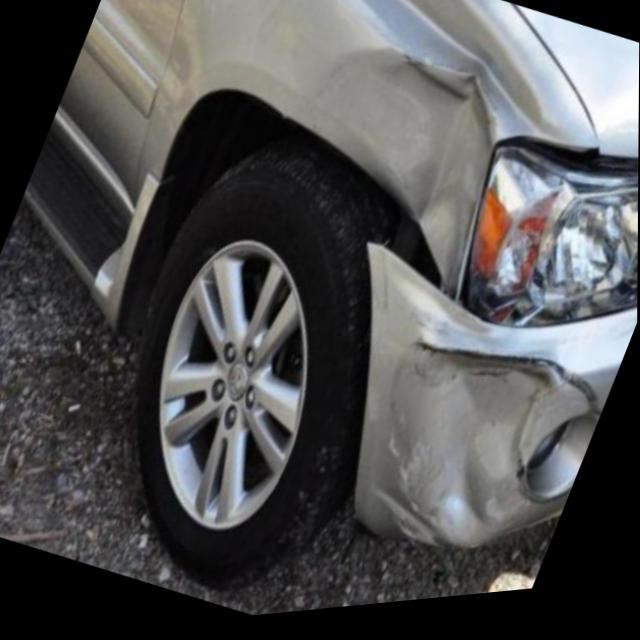dent: (355, 253, 603, 559), (310, 57, 500, 288)
lamp broken: (468, 146, 639, 343)
